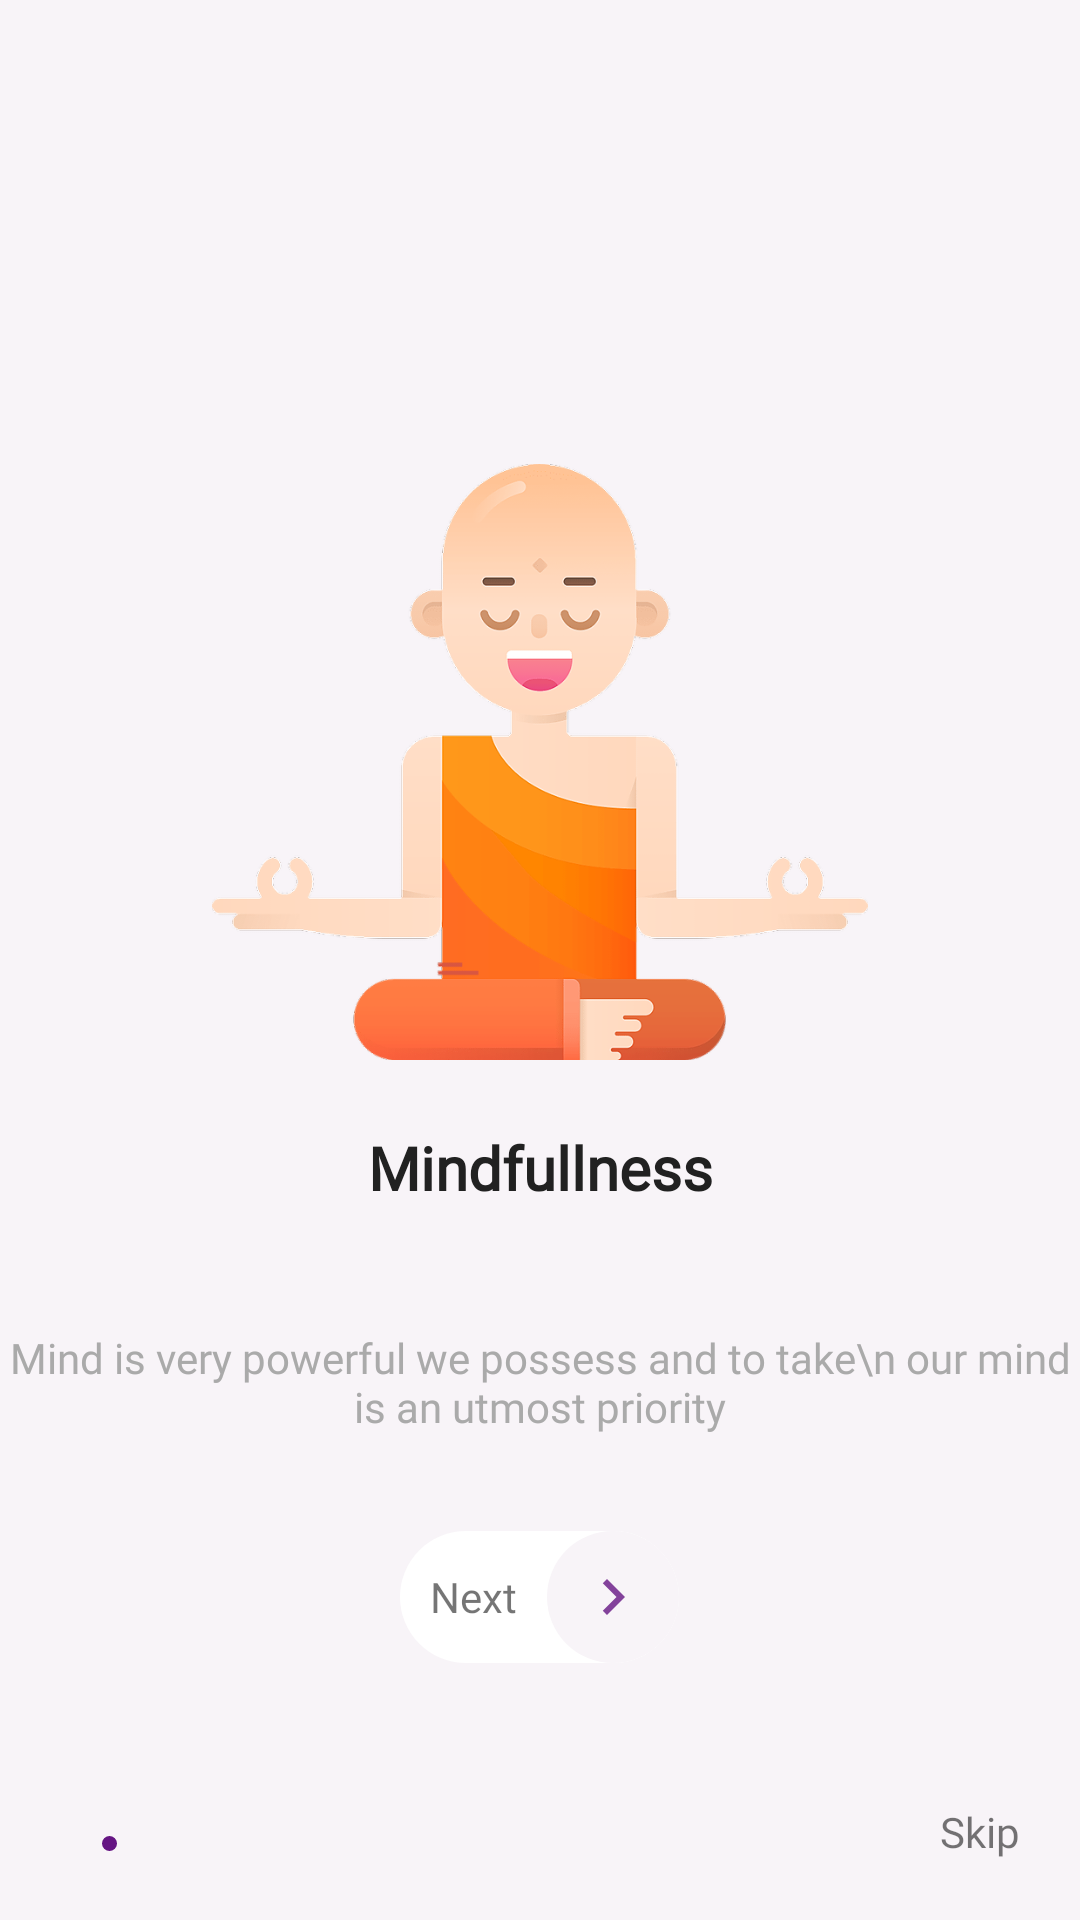

Where to tap for icons on this 1080*1920 app screen, as (x=x, y=y):
forward: (x=614, y=1597)
